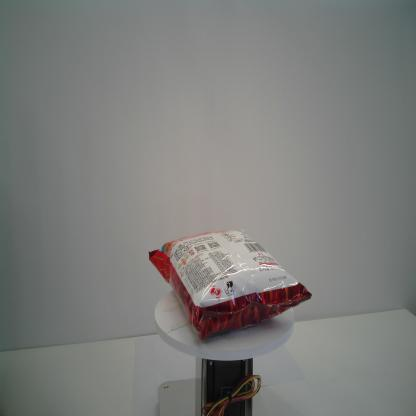Puffed Food: (148, 228, 312, 339)
